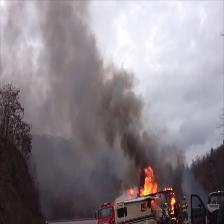fire: (143, 169, 158, 194)
smoke: (46, 4, 95, 162), (100, 74, 138, 175)
